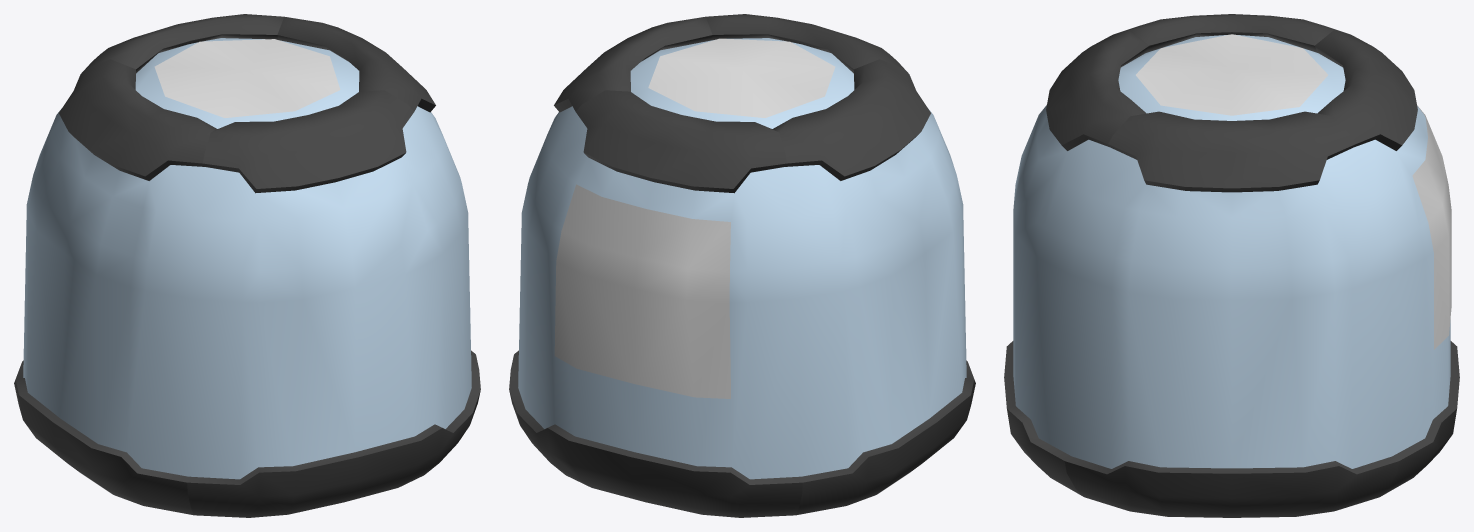
The model's file is obj_characterobject_totebotyellow.fbx.
3 views of the same model, side by side, from view 1: azimuth 30°, elevation 25°; view 2: azimuth 150°, elevation 25°; view 3: azimuth 270°, elevation 25° (orthographic).
Visible parts, largest first — view 1: obj_characterobject_totebotpackage_empty.004; view 2: obj_characterobject_totebotpackage_empty.004; view 3: obj_characterobject_totebotpackage_empty.004.
Boxes of the visible parts, x1=… form: obj_characterobject_totebotpackage_empty.004: x1=14, y1=14, x2=480, y2=517; obj_characterobject_totebotpackage_empty.004: x1=509, y1=14, x2=975, y2=517; obj_characterobject_totebotpackage_empty.004: x1=1004, y1=14, x2=1459, y2=517.
Size of the model in its own units: 7.89 by 7.15 by 7.89.
